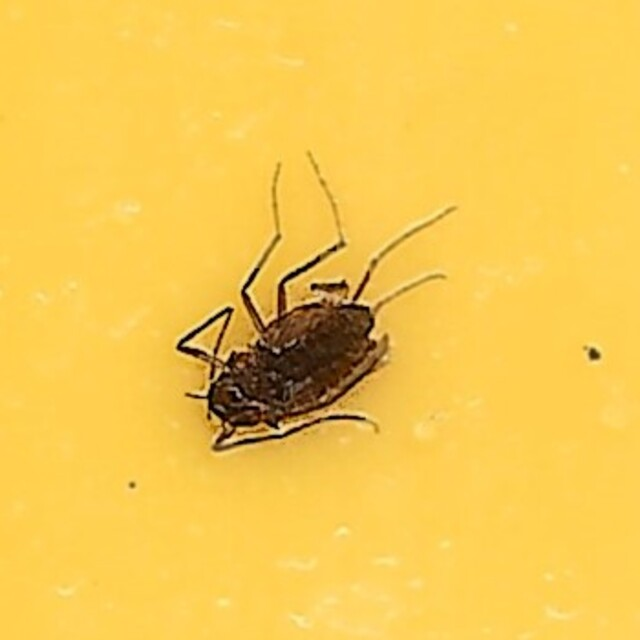Nematocera: (183, 192, 457, 448)
